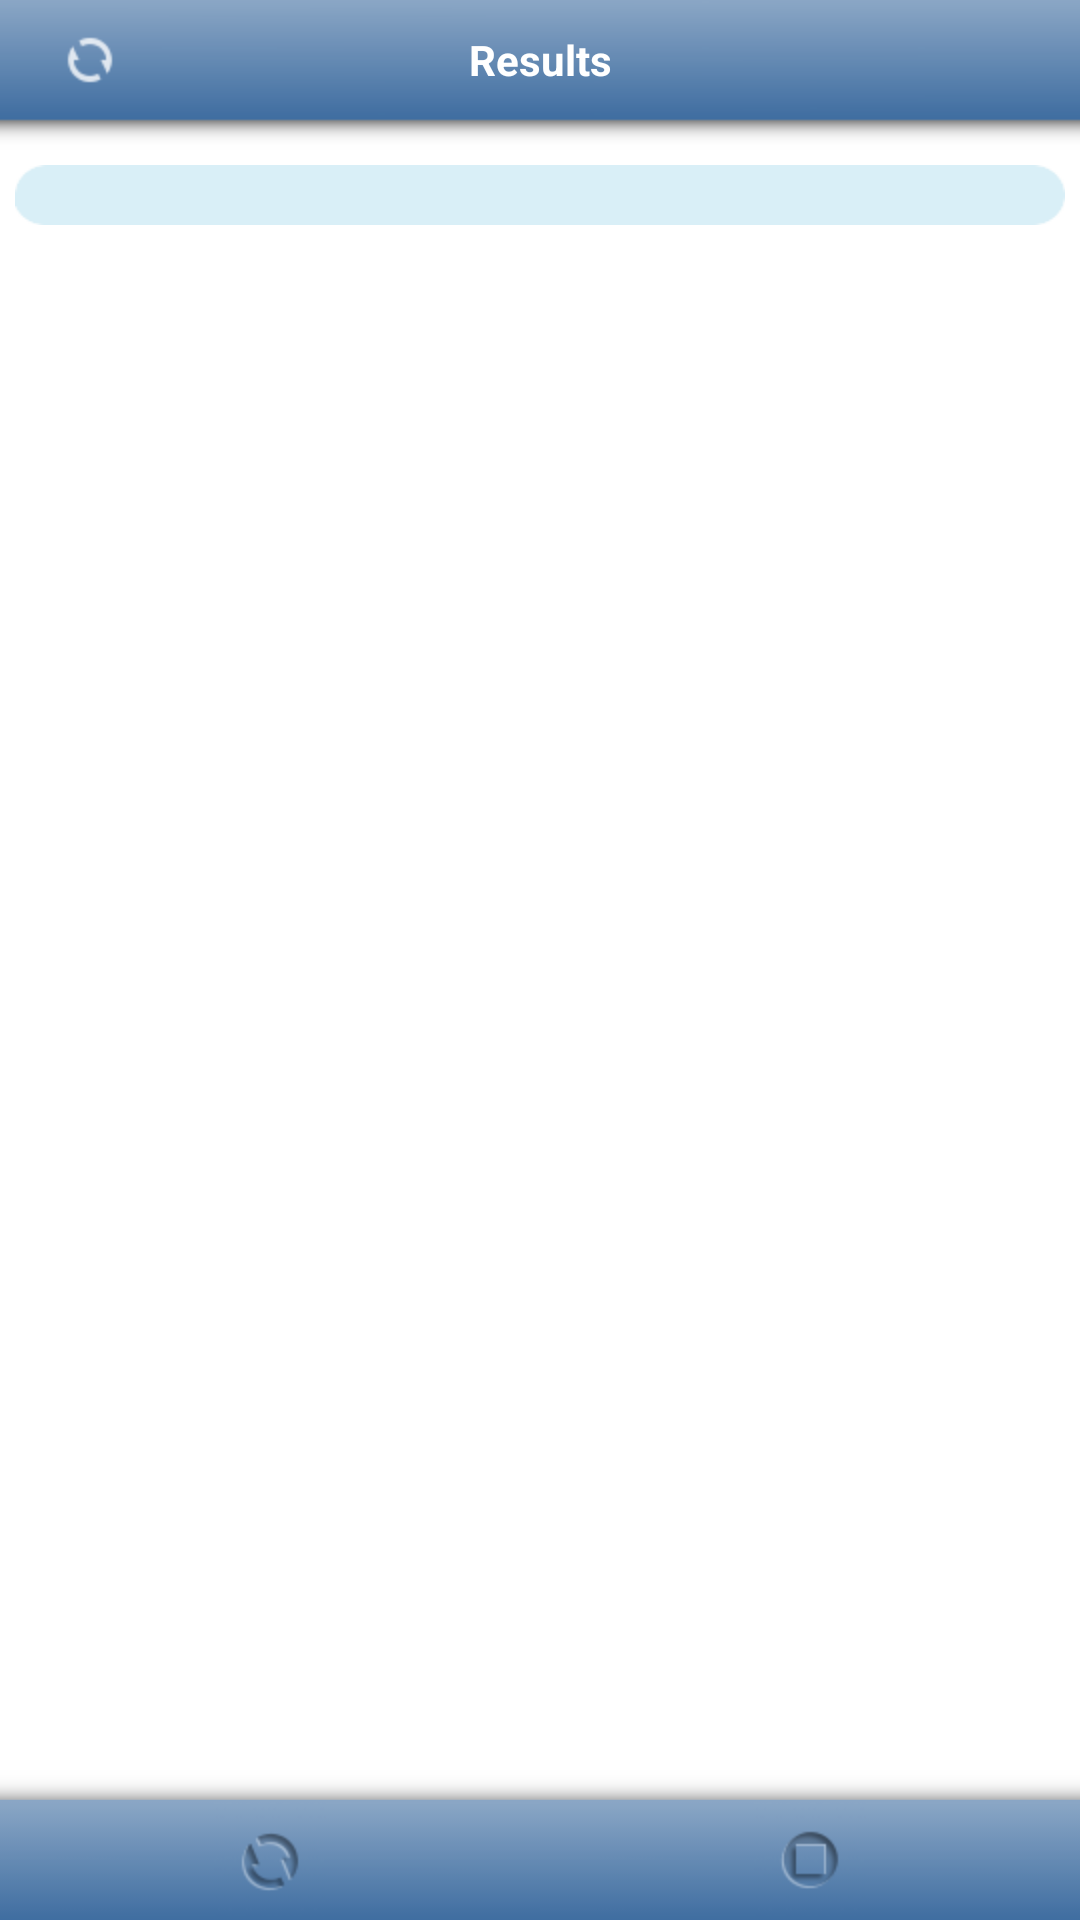

Named icons in this screenshot (1080w x 1920h) and their centers, (x,y):
loading animation: (90,60)
